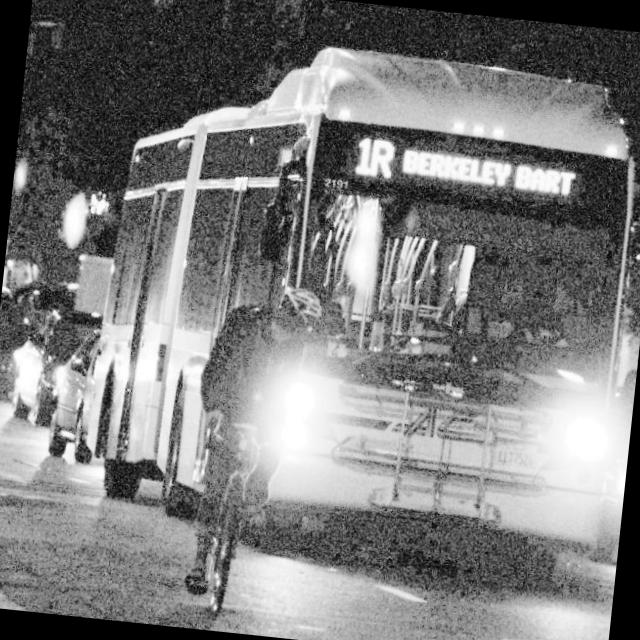Bicycle: (154, 400, 290, 636)
Bus: (75, 41, 640, 558)
Car: (0, 222, 111, 481)
